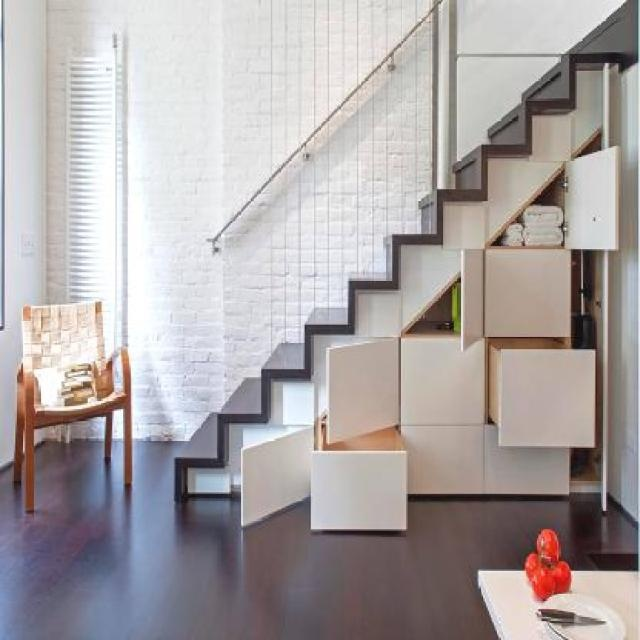stair: (166, 7, 637, 527)
